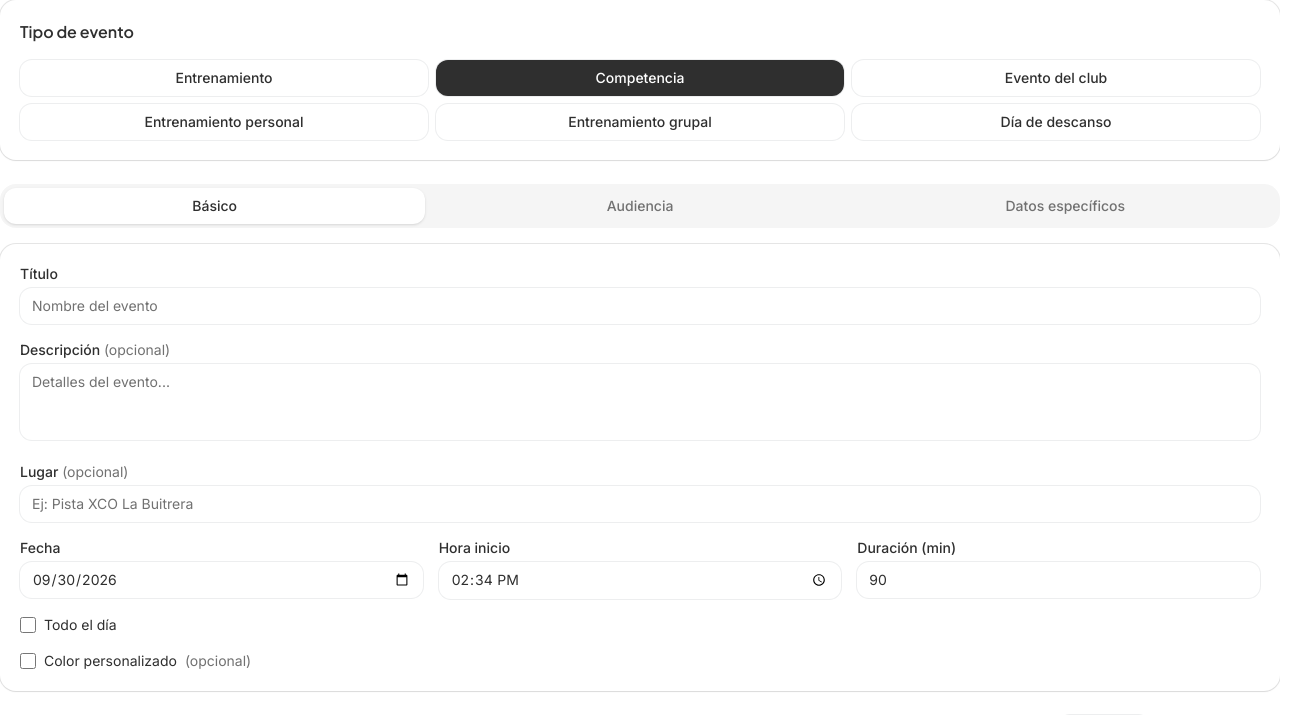
Test: EventForm — prefill CF6 › prefillRaceEventId=100 → event_type arranca 'competition' y race_event_id=100
Click the tab "Datos específicos". click: (1065, 206)
box: [855,188,1276,224]
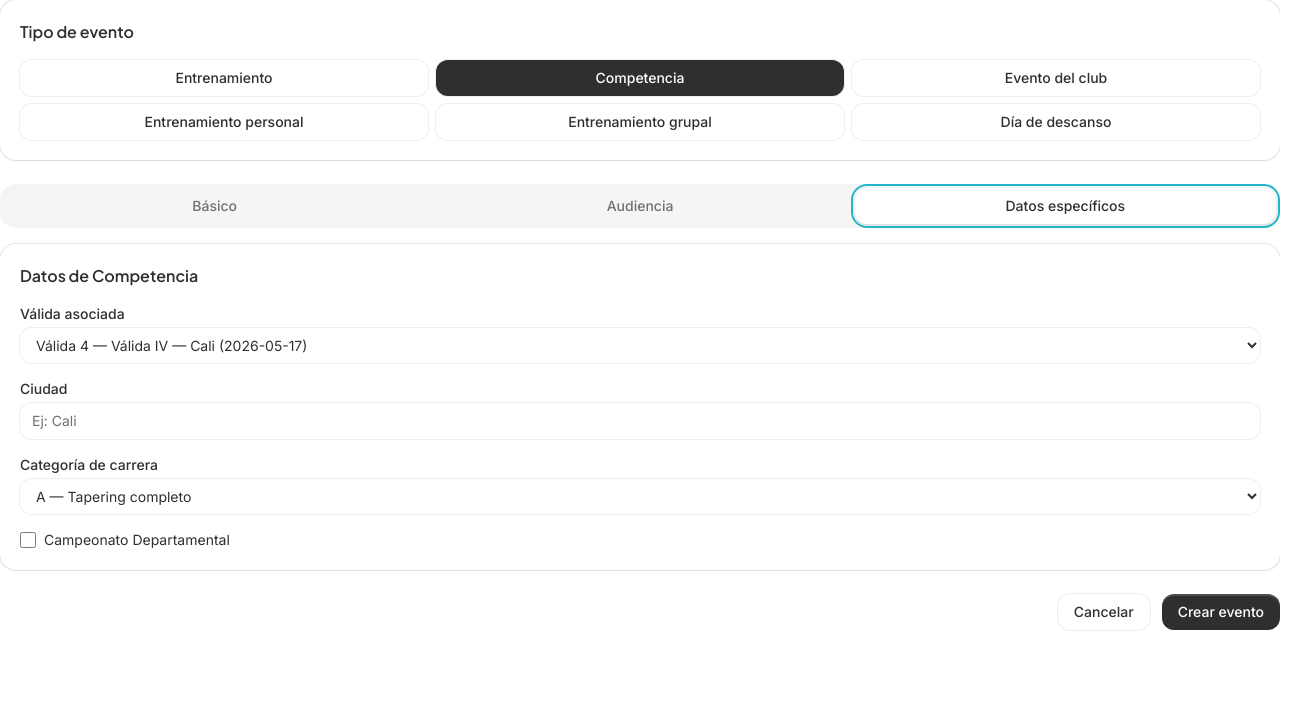
Expected: the dropdown with test id "event-race-event-id" shows "Válida 4 — Válida IV — Cali (2026-05-17)", [20,328,1260,363]
